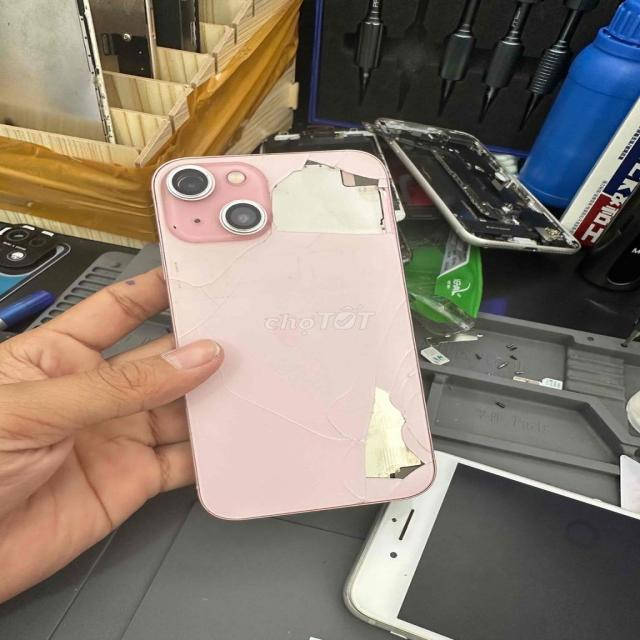gen_x_xs: (152, 149, 433, 519)
physical_damage: (224, 362, 429, 498), (162, 242, 290, 342), (264, 158, 388, 244), (378, 291, 418, 370)
scratch: (165, 218, 192, 241)
